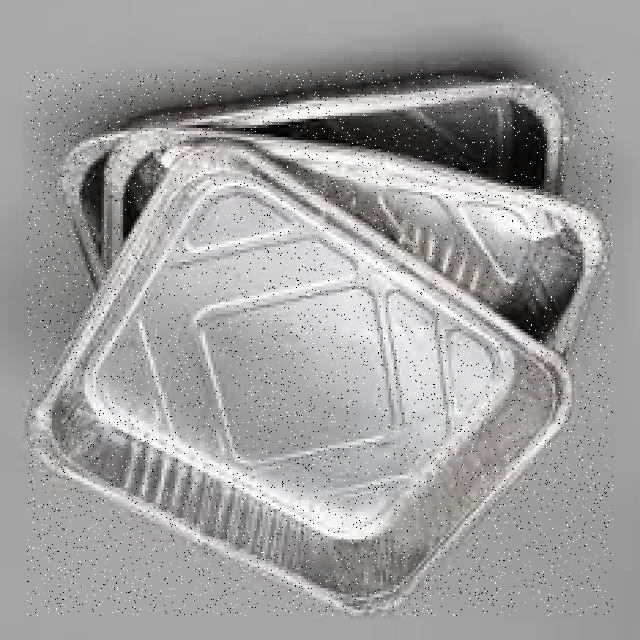metal: (27, 70, 613, 615)
